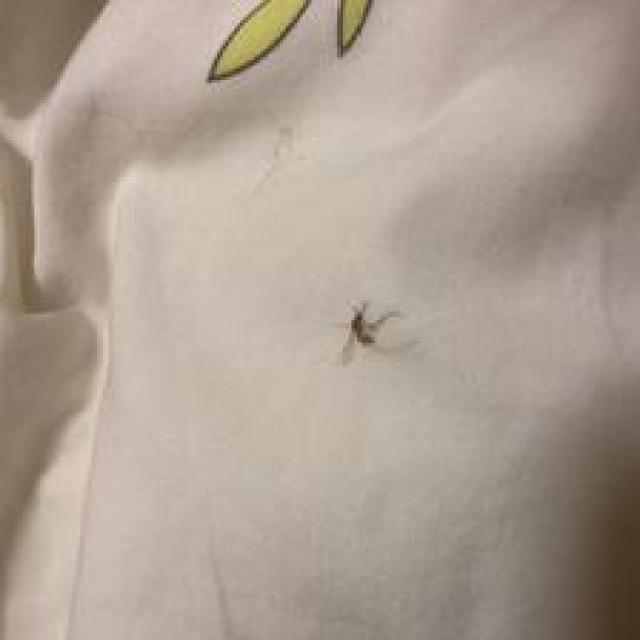Culex: (336, 299, 404, 364)
